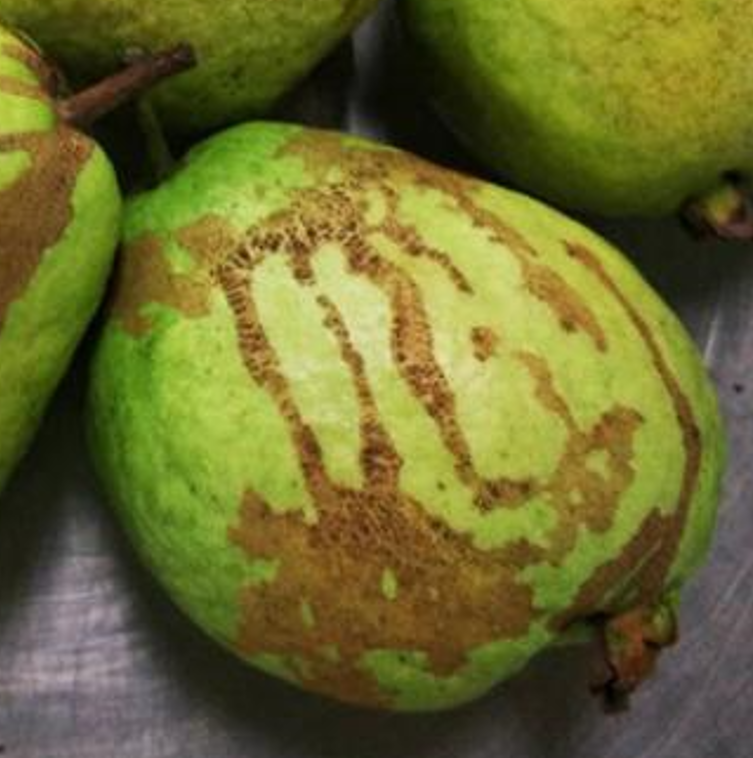guava_C: (80, 120, 722, 710)
